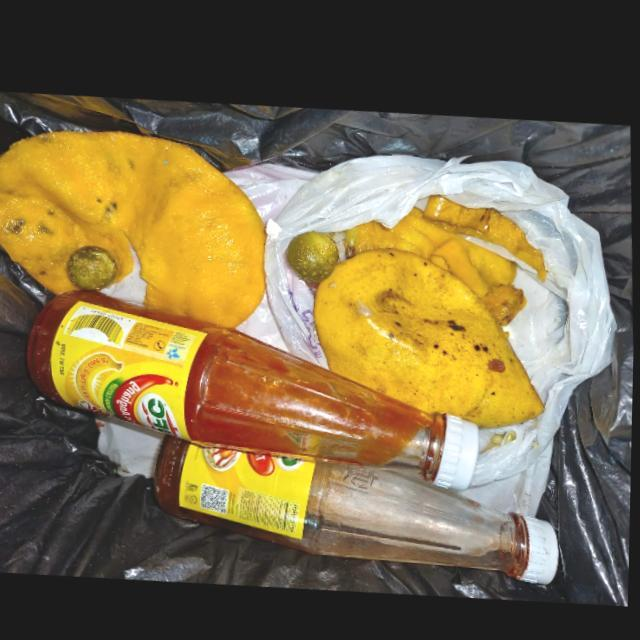biowaste: (0, 128, 267, 323), (314, 240, 546, 418), (345, 198, 528, 316), (422, 186, 547, 268), (287, 226, 340, 277), (68, 243, 118, 288)
glass: (28, 286, 481, 480), (155, 431, 532, 568)
plastic: (225, 145, 620, 507)
